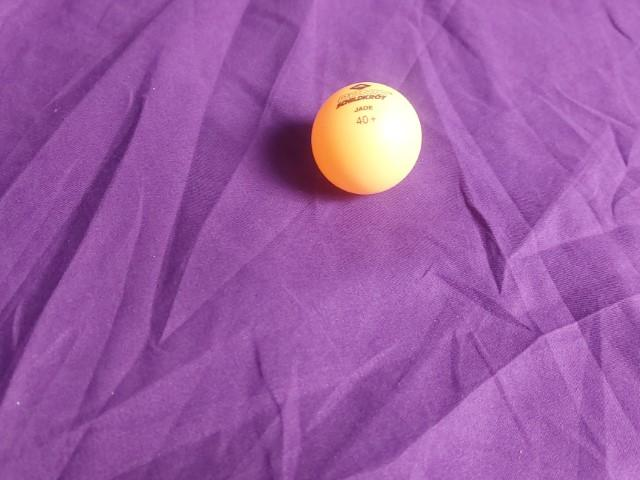oball: (302, 74, 431, 203)
